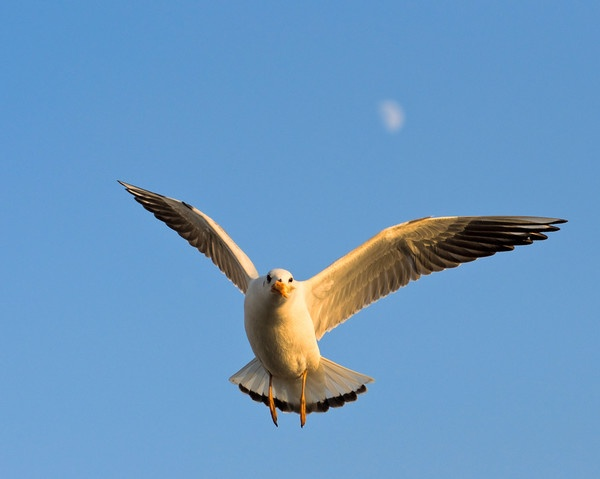bird: (113, 175, 569, 427)
